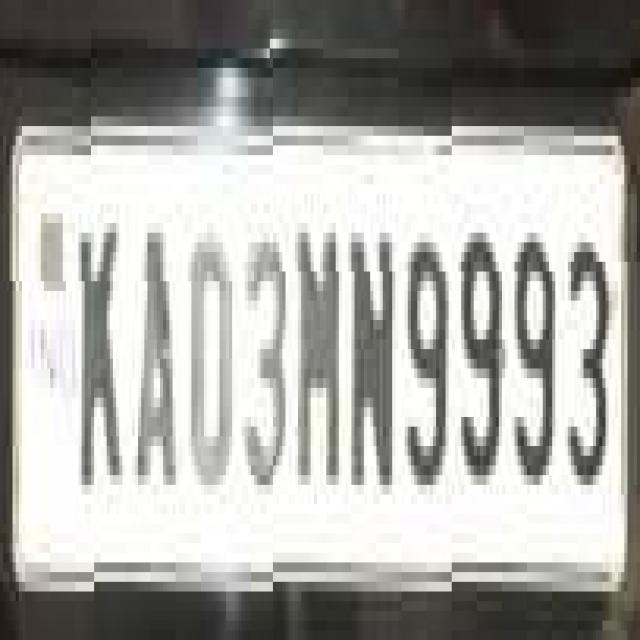plate: (0, 87, 609, 601)
